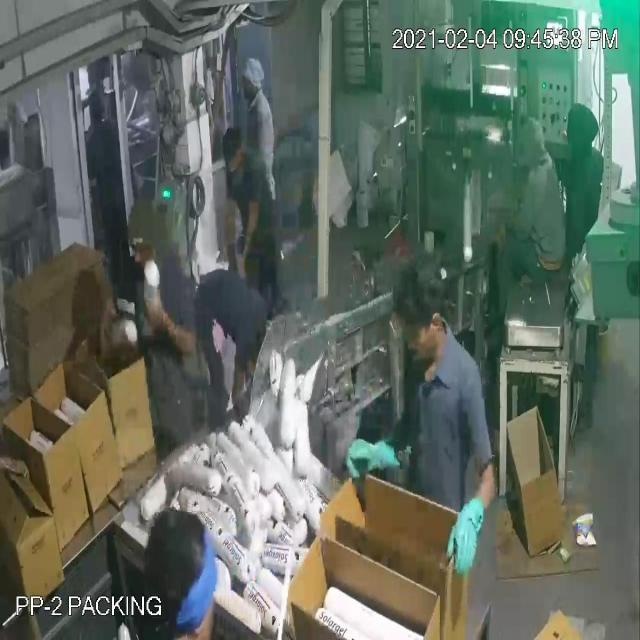No_Gloves: (40, 78, 469, 532)
